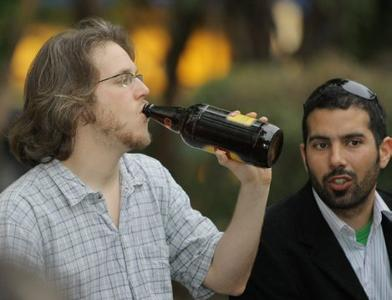person: (1, 17, 274, 300)
